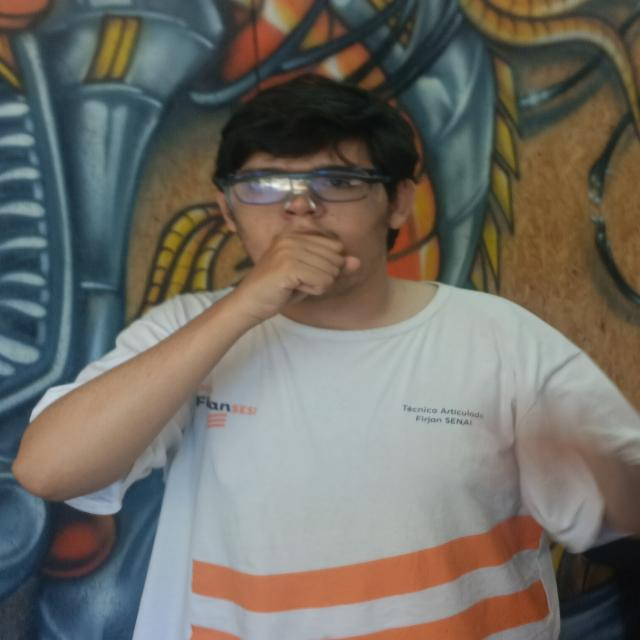oculos-epi: (218, 170, 391, 218)
